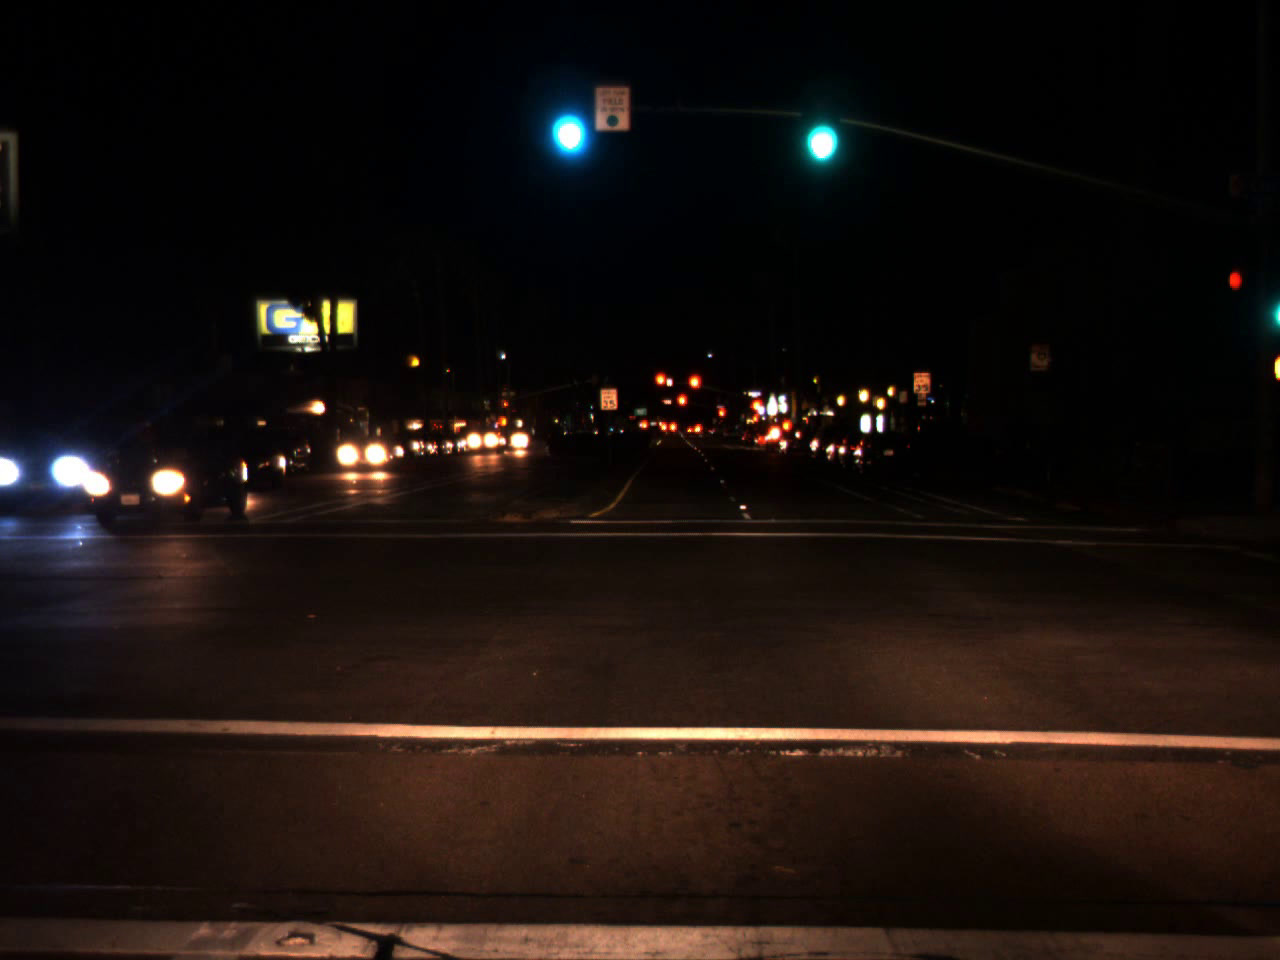go: (795, 84, 840, 171), (547, 88, 586, 160)
stop: (496, 395, 512, 427), (687, 373, 702, 405), (653, 371, 668, 398), (676, 392, 688, 419), (717, 406, 727, 427), (752, 400, 761, 421)
